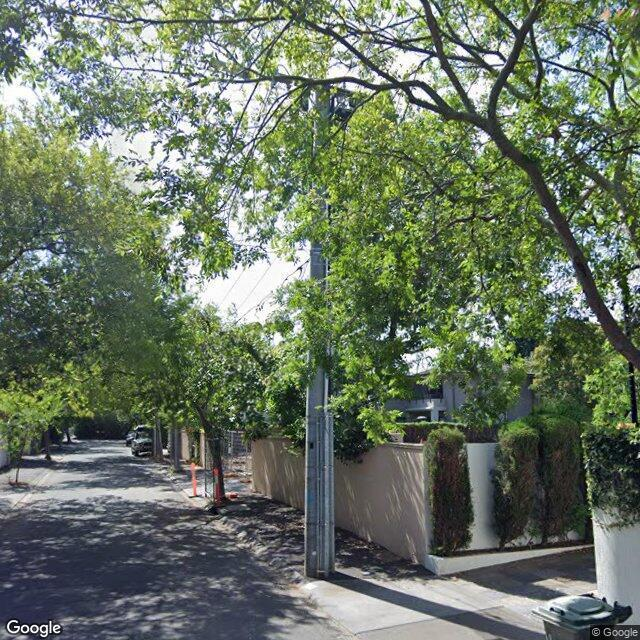concrete-pole: (303, 83, 333, 579)
